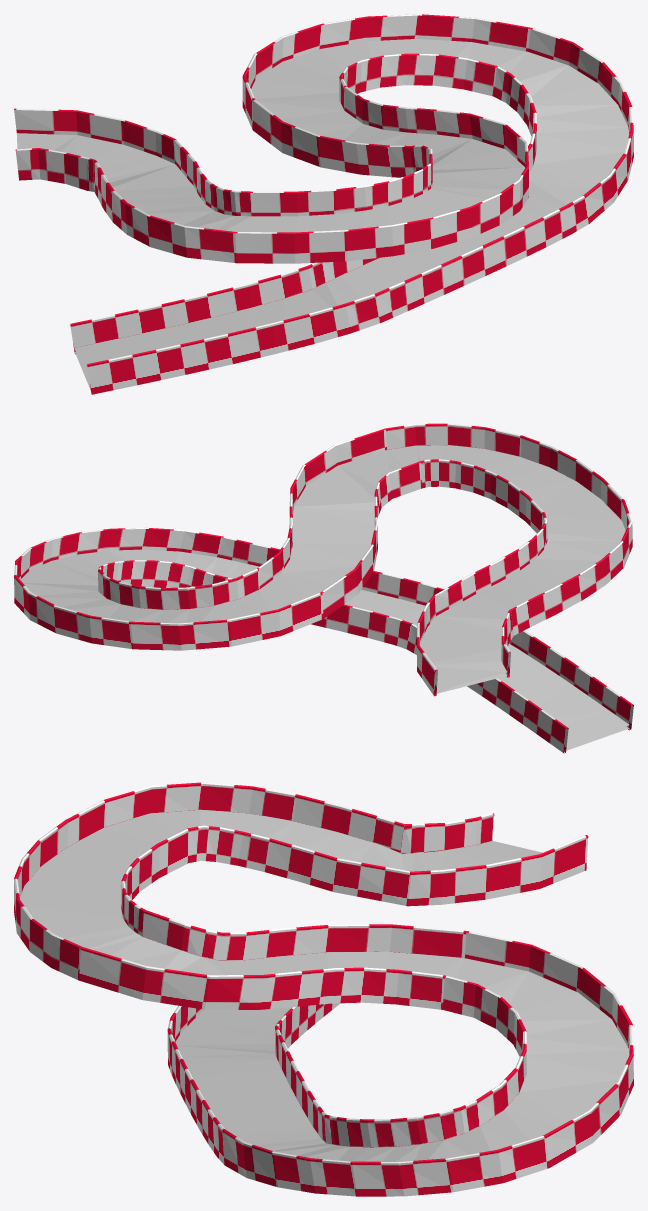
The model's file is aws_Track_02_visual.DAE.
3 renders of one model, top to bottom at view 1: azimuth 30°, elevation 25°; view 2: azimuth 150°, elevation 25°; view 3: azimuth 270°, elevation 25°, orthographic. The views are drawn at different scales.
Visible parts, largest first — view 1: aws_Track_02_visual; view 2: aws_Track_02_visual; view 3: aws_Track_02_visual.
Boxes of the visible parts, x1,y1,x2,y2 form: aws_Track_02_visual: (14,14,633,394); aws_Track_02_visual: (14,423,633,753); aws_Track_02_visual: (14,782,633,1196).
Bounding box in the file's own units: 1480 × 1189 × 469.
